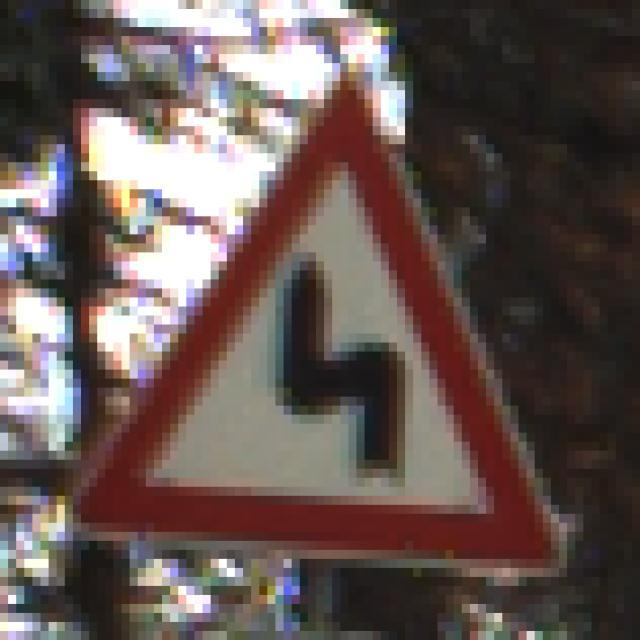left reverse bend: (75, 73, 577, 588)
